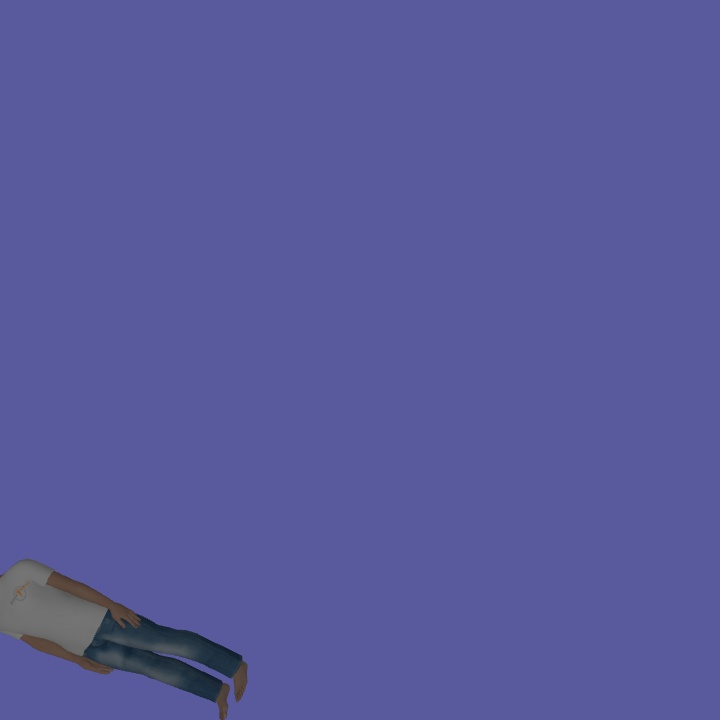victim: (1, 553, 250, 716)
